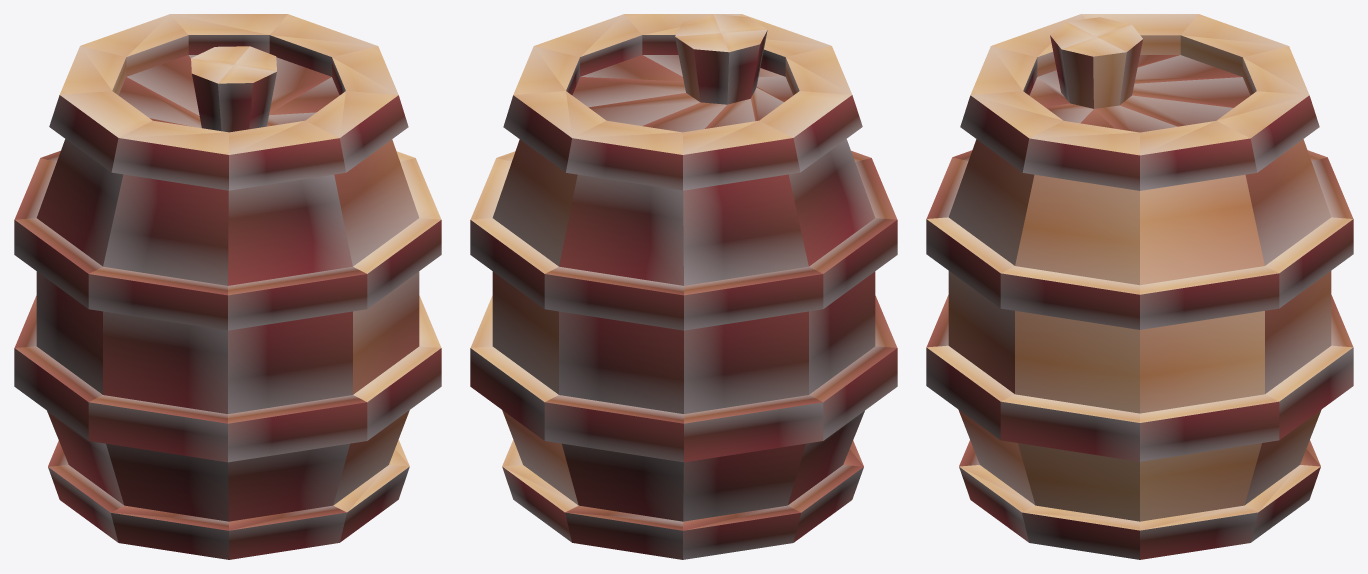
The model's file is barrel.fbx.
3 views of the same model, side by side, from view 1: azimuth 30°, elevation 25°; view 2: azimuth 150°, elevation 25°; view 3: azimuth 270°, elevation 25° (orthographic).
Parts seen in each view (by area): view 1: barrel; view 2: barrel; view 3: barrel.
Part boxes in pixels (x1,y1,x2,y2): barrel: (14,14,441,559); barrel: (470,14,897,559); barrel: (926,14,1353,559).
Bounding box in the file's own units: 95.9 × 111 × 97.38.
